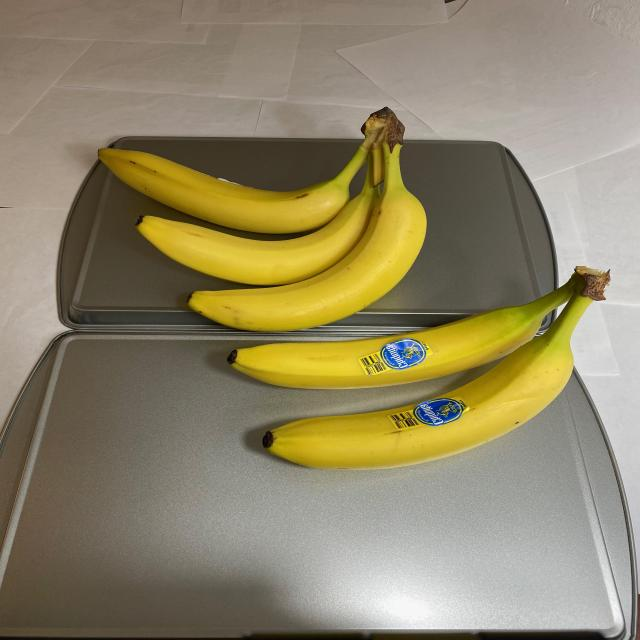banana: (220, 266, 616, 471), (91, 101, 434, 331)
